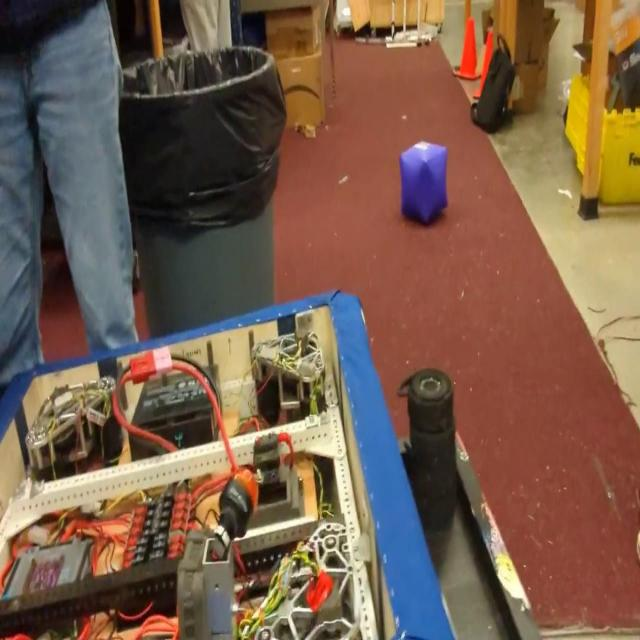frc_cube: (398, 140, 448, 226)
